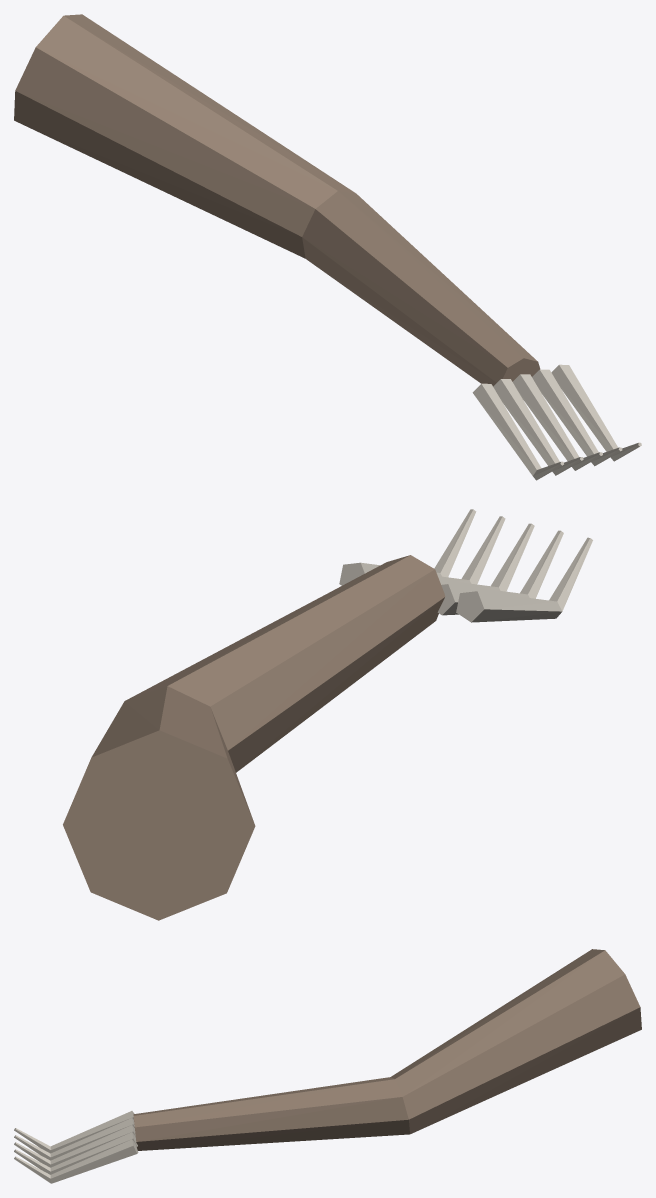
File: bat_leg_r_original_01.glb
3 renders of one model, top to bottom at view 1: azimuth 30°, elevation 25°; view 2: azimuth 150°, elevation 25°; view 3: azimuth 270°, elevation 25°, orthographic. The views are drawn at different scales.
Parts seen in each view (by area): view 1: B0_HindLegR, B0_HindClawsR; view 2: B0_HindLegR, B0_HindClawsR; view 3: B0_HindLegR, B0_HindClawsR.
Part boxes in pixels (<box>): B0_HindLegR: <box>14,14,540,386</box>; B0_HindClawsR: <box>472,364,641,480</box>; B0_HindLegR: <box>63,555,445,920</box>; B0_HindClawsR: <box>339,509,592,622</box>; B0_HindLegR: <box>133,949,641,1150</box>; B0_HindClawsR: <box>14,1111,138,1183</box>.
Size of the model in its own units: 0.0893 by 0.0761 by 0.2607.
